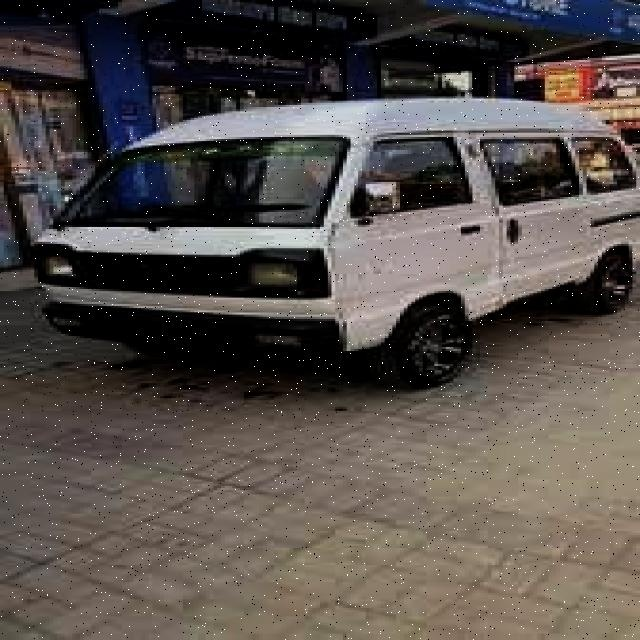Van: (30, 96, 640, 394)
